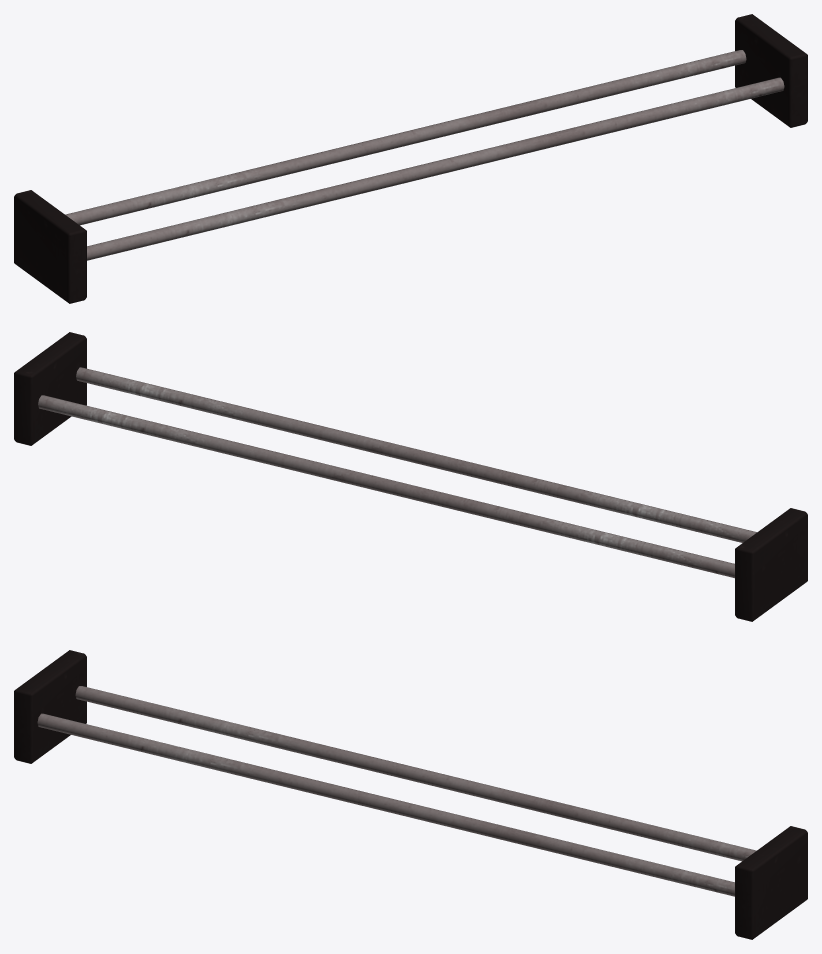
File: stoika.glb
3 views of the same model, one above another, from view 1: azimuth 30°, elevation 25°; view 2: azimuth 150°, elevation 25°; view 3: azimuth 330°, elevation 25° (orthographic).
Parts seen in each view (by area): view 1: pCube93.001; view 2: pCube93.001; view 3: pCube93.001.
Part boxes in pixels (box(x1,y1,x2,y2)): pCube93.001: box(14, 14, 807, 303); pCube93.001: box(14, 332, 807, 621); pCube93.001: box(14, 650, 807, 939).
Bounding box in the file's own units: 0.6414 × 0.0591 × 0.084.
1 material, 1 textured.
